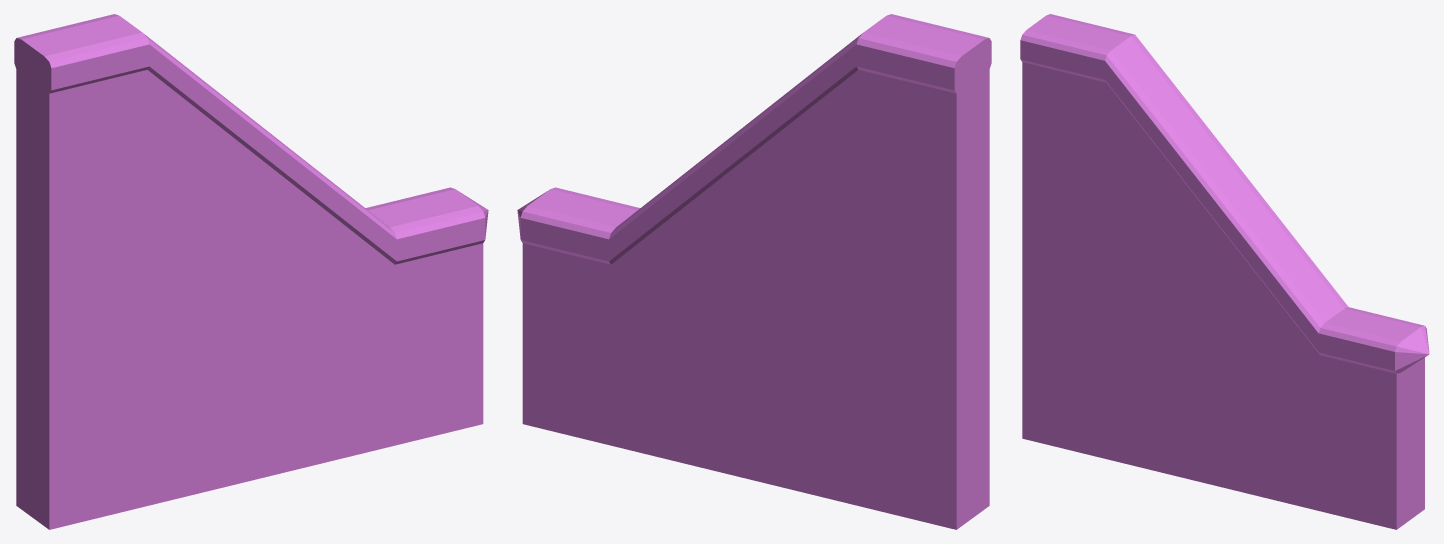
The model's file is Foundation_Stairs_Railing_Small_1.fbx.
3 renders of one model, left to right at view 1: azimuth 30°, elevation 25°; view 2: azimuth 150°, elevation 25°; view 3: azimuth 330°, elevation 25°, orthographic. The views are drawn at different scales.
Parts seen in each view (by area): view 1: Foundation_Stairs_Railing_Small_1; view 2: Foundation_Stairs_Railing_Small_1; view 3: Foundation_Stairs_Railing_Small_1.
Boxes of the visible parts, x1=… form: Foundation_Stairs_Railing_Small_1: x1=14, y1=14, x2=488, y2=529; Foundation_Stairs_Railing_Small_1: x1=517, y1=14, x2=991, y2=529; Foundation_Stairs_Railing_Small_1: x1=1020, y1=14, x2=1429, y2=529.
Bounding box in the file's own units: 142 × 140 × 19.97.
